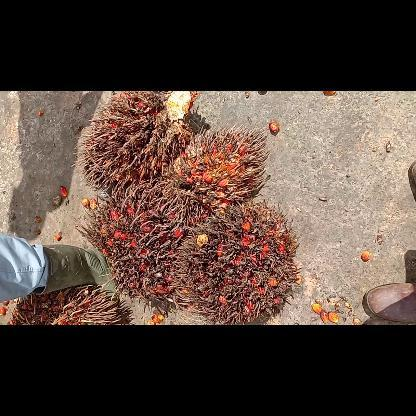Terlalu masak: (77, 176, 211, 314), (166, 198, 302, 324), (66, 91, 204, 197), (166, 121, 272, 217)
